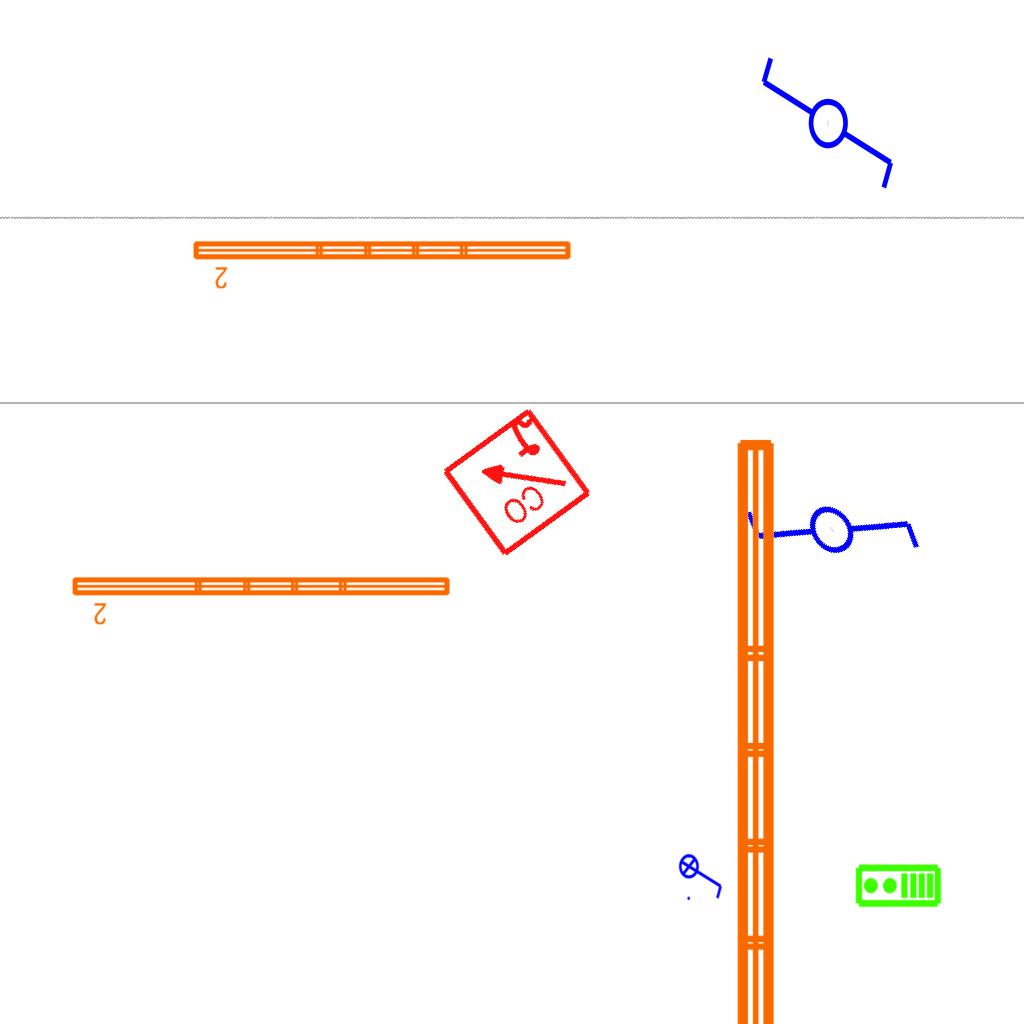Ambulanz_Pendelleuchte_LED: (725, 429, 837, 1024), (68, 571, 455, 627), (189, 235, 576, 291)
Ausschalter_beleuchtet: (678, 847, 726, 903)
Gegensprechanlage_mit_Video: (854, 863, 942, 910)
ROA_Rauchmelder_optisch_mit_Signalgeber_(Sockelsirene): (436, 402, 595, 561)
Wechselschalter: (723, 415, 934, 629), (754, 53, 898, 210)
